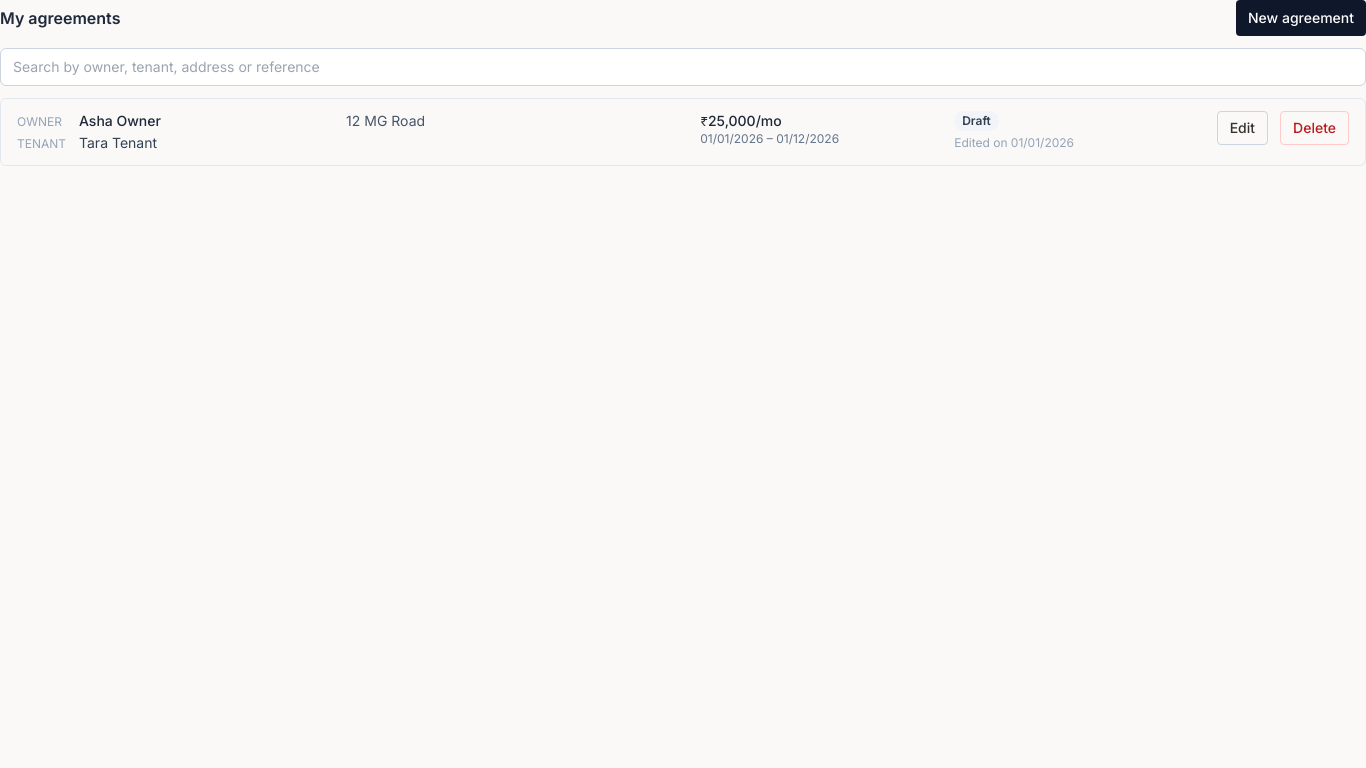
Scenario: MyAgreements › delete › a 409 says it is no longer a draft and reloads, and the notice survives the reload
Click the button with test id "delete-d1": (1315, 128) [1280,111,1349,145]
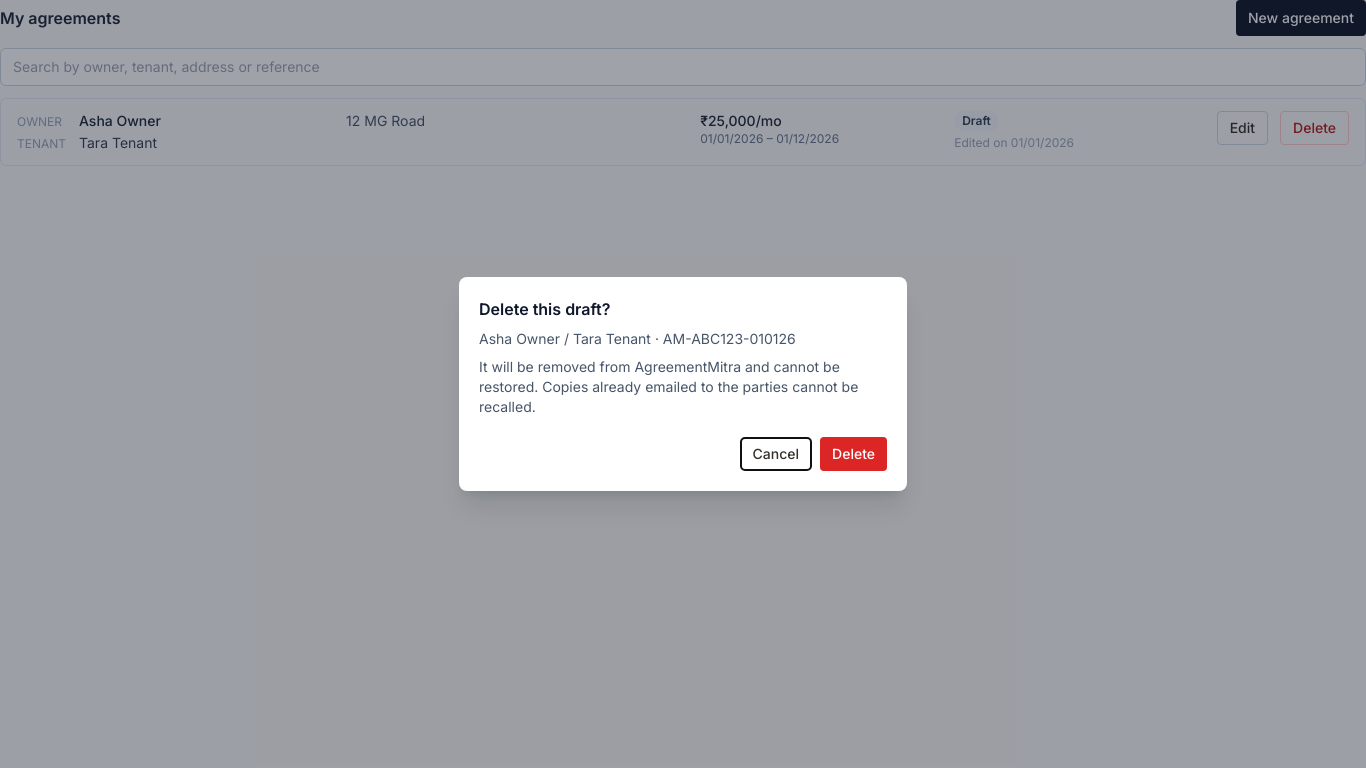
Click the button with test id "confirm-ok": (854, 454) [820,437,887,471]
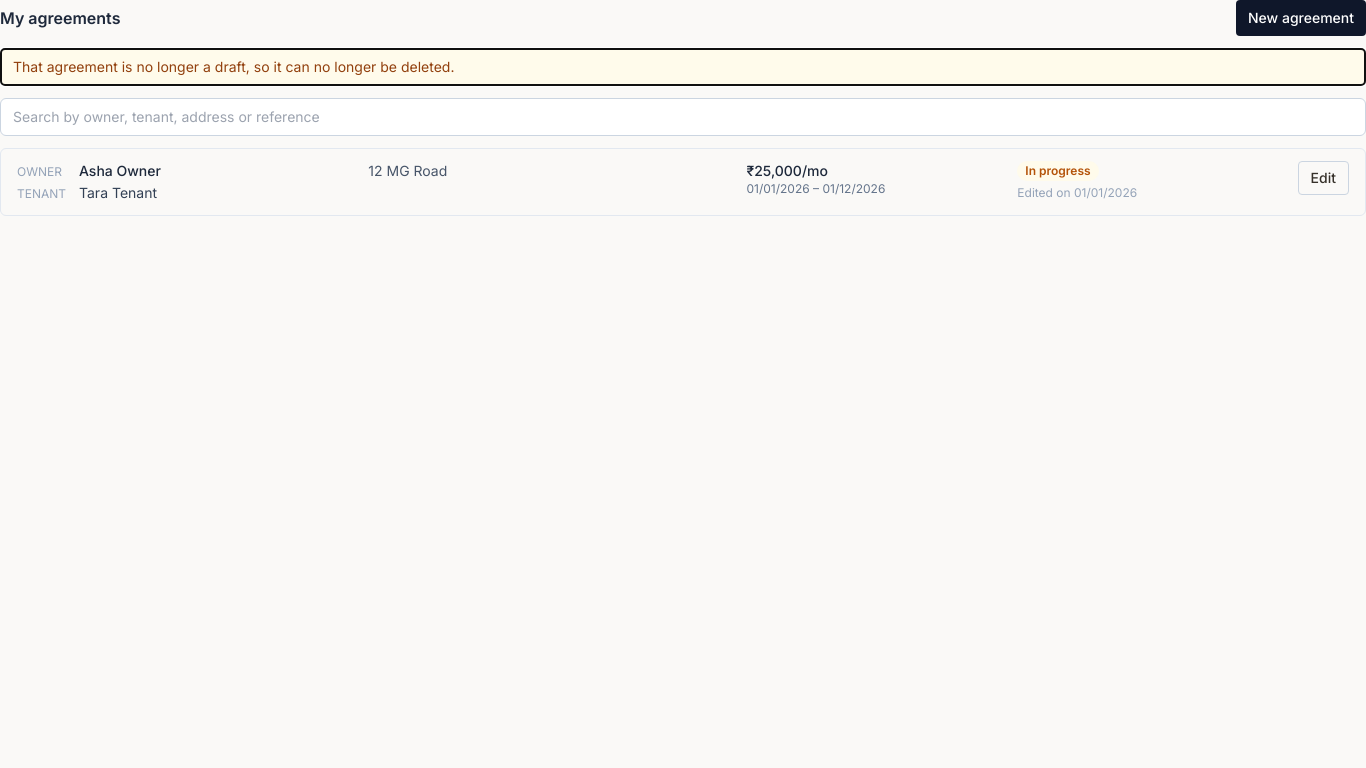
Check: the message with test id "list-notice" shows "no longer a draft", box [13,58,454,75]
